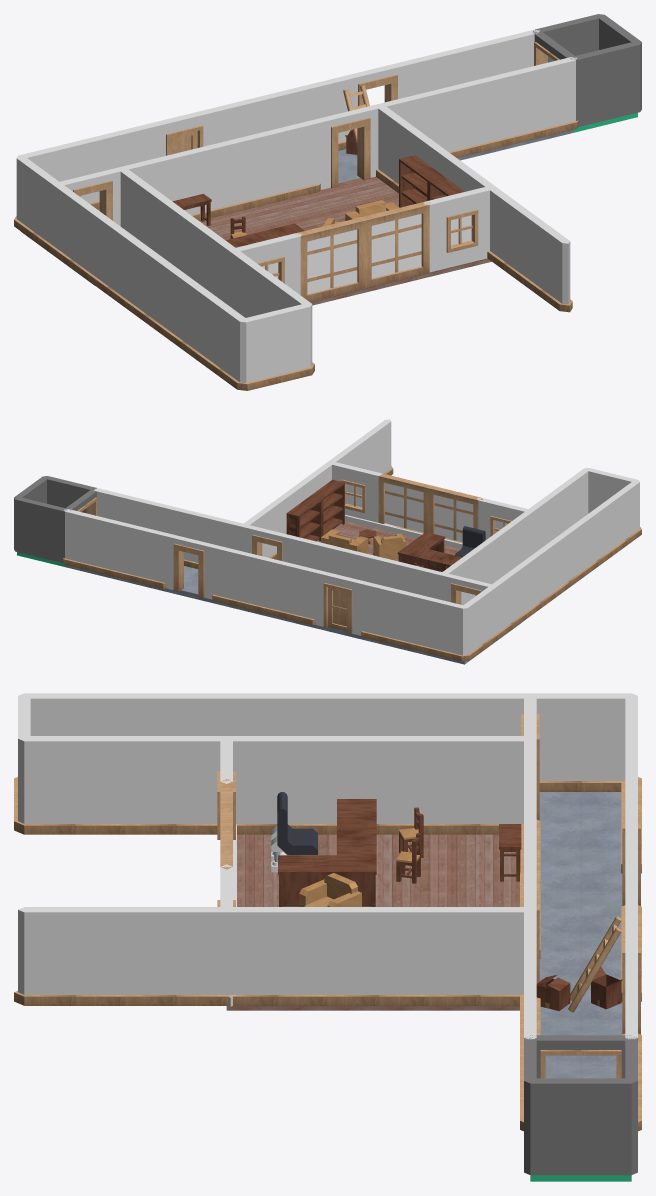
Rendered from Level_0_2.fbx.
The picture shows the model from 3 angles, top to bottom: view 1: azimuth 30°, elevation 25°; view 2: azimuth 150°, elevation 25°; view 3: azimuth 270°, elevation 25°; orthographic projection. The views are drawn at different scales.
Visible parts, largest first — view 1: mergedBlocks; view 2: mergedBlocks; view 3: mergedBlocks.
Boxes of the visible parts, left/top/right/bottom form: mergedBlocks: left=14, top=14, right=641, bottom=390; mergedBlocks: left=14, top=419, right=641, bottom=664; mergedBlocks: left=14, top=693, right=641, bottom=1181.
Size of the model in its own units: 91.65 by 11 by 62.05.
13 materials, 6 textured.
